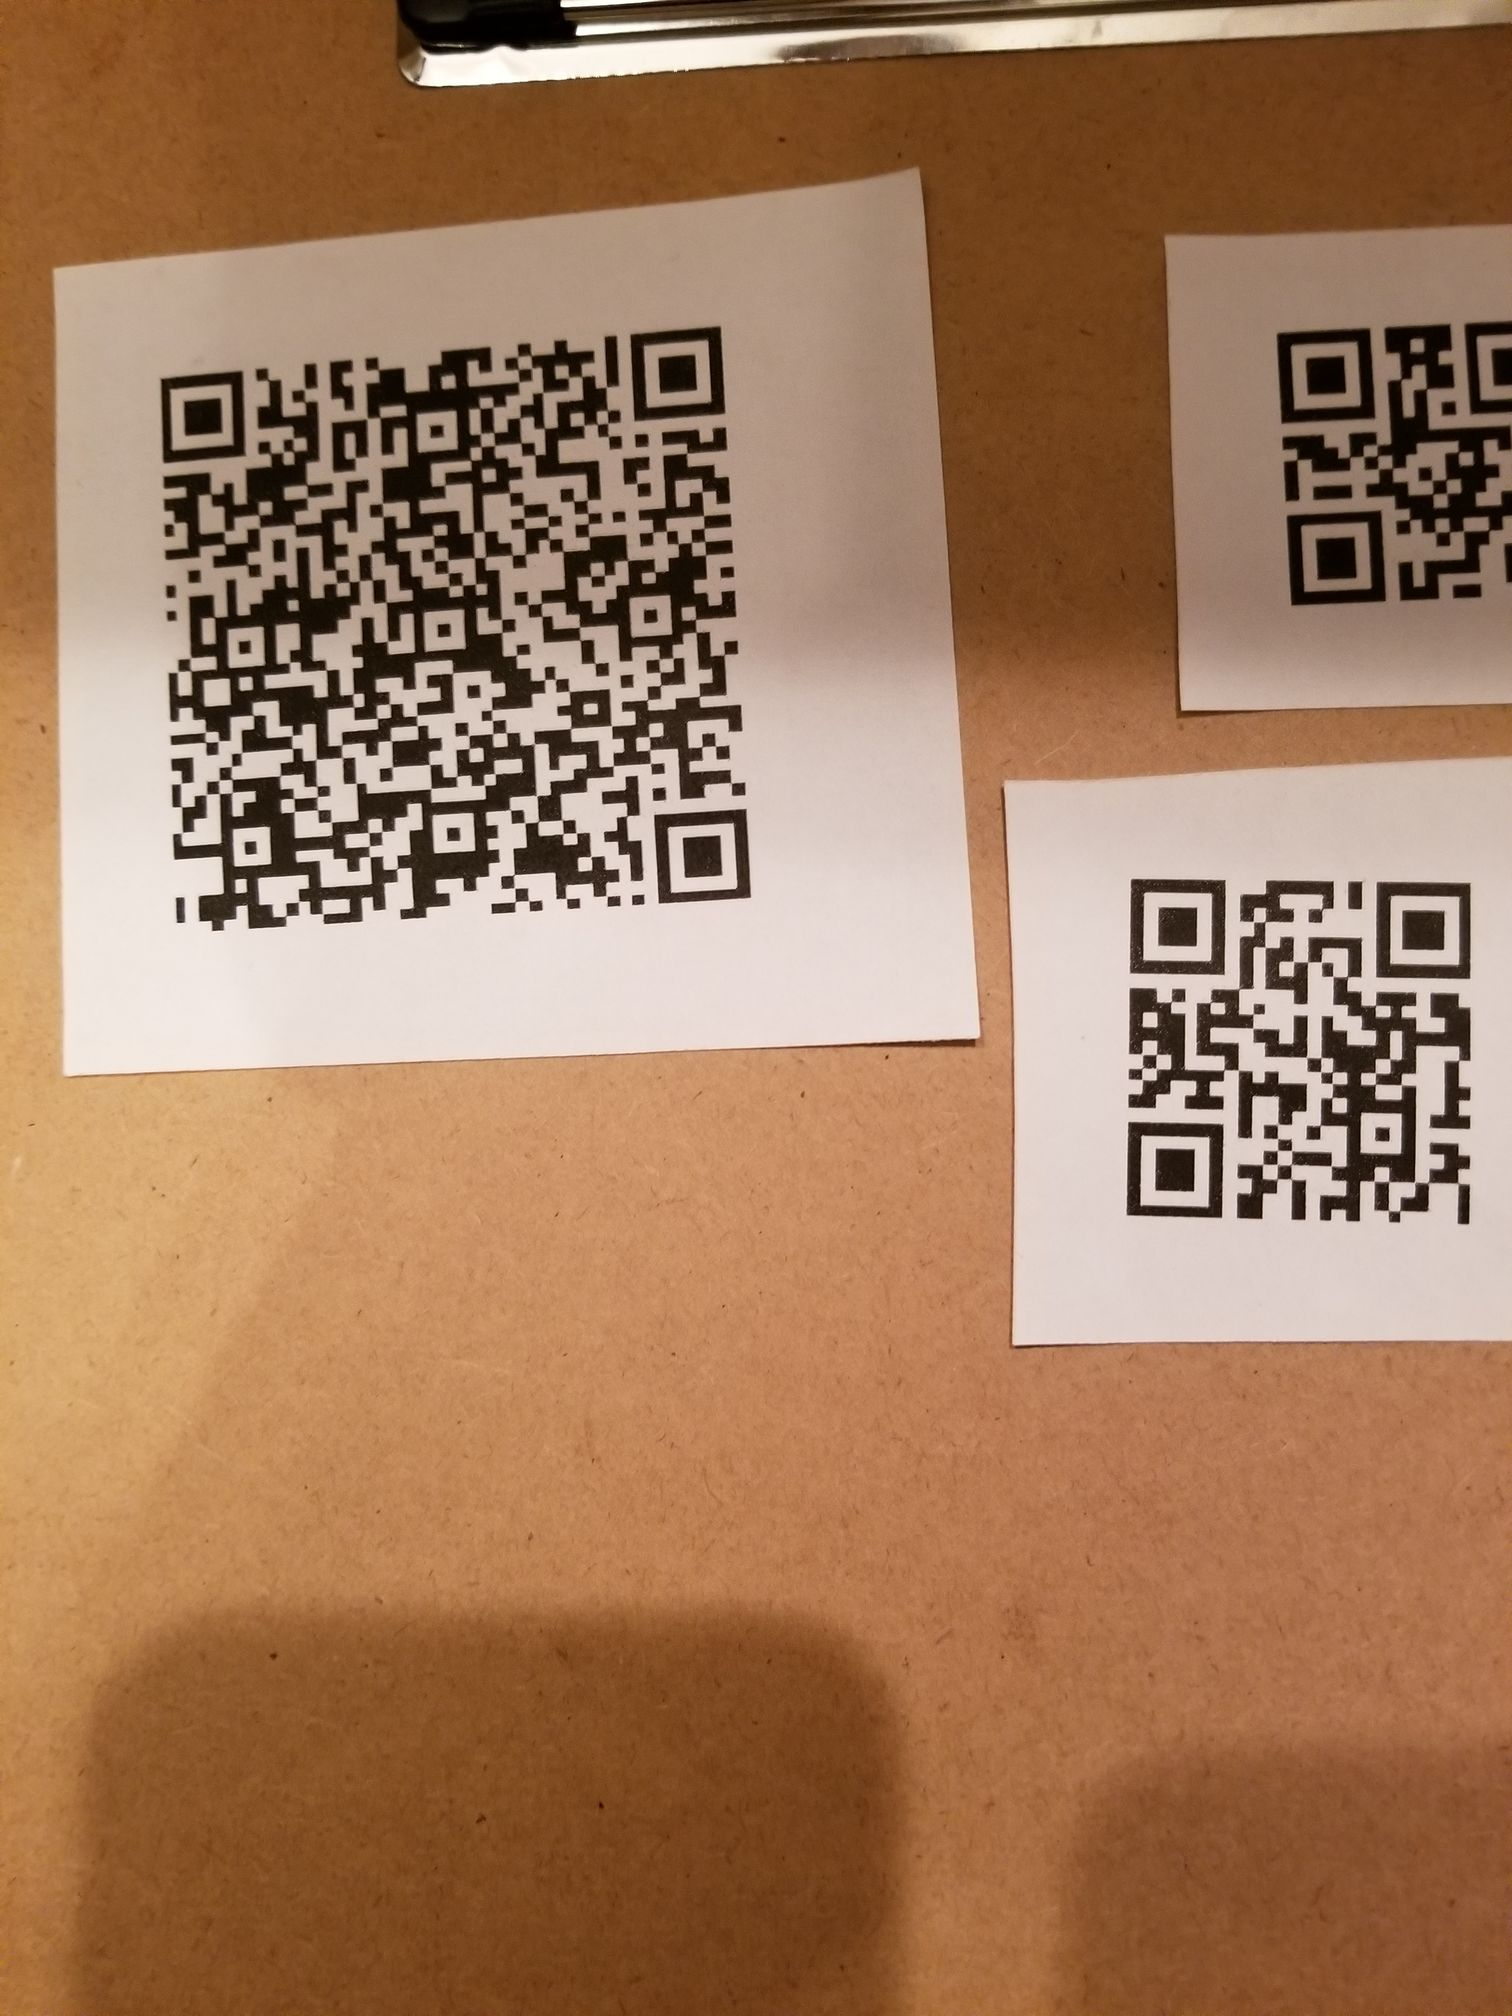QR_CODE: (133, 310, 775, 971), (1102, 837, 1498, 1270), (1256, 278, 1512, 625)
